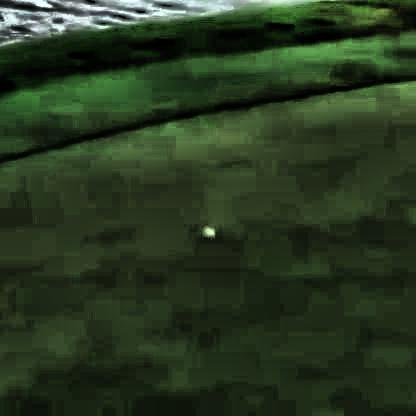golfball: (199, 223, 215, 236)
